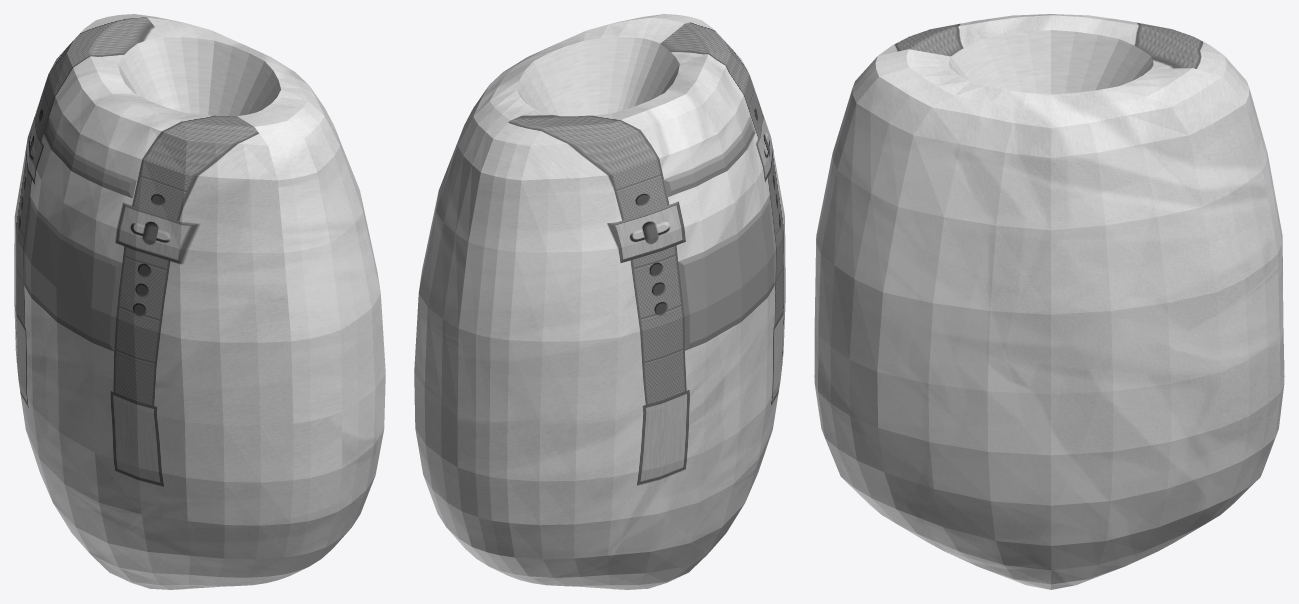
The model's file is human1v.obj.
The picture shows the model from 3 angles, left to right: view 1: azimuth 30°, elevation 25°; view 2: azimuth 150°, elevation 25°; view 3: azimuth 270°, elevation 25°; orthographic projection.
Visible parts, largest first — view 1: ColobotMesh_1.001_ColobotMesh_.001; view 2: ColobotMesh_1.001_ColobotMesh_.001; view 3: ColobotMesh_1.001_ColobotMesh_.001.
Part boxes in pixels (box(x1,y1,x2,y2)): ColobotMesh_1.001_ColobotMesh_.001: box(14, 14, 385, 589); ColobotMesh_1.001_ColobotMesh_.001: box(414, 14, 785, 589); ColobotMesh_1.001_ColobotMesh_.001: box(814, 14, 1284, 589).
Size of the model in its own units: 2 by 3.37 by 2.85.
